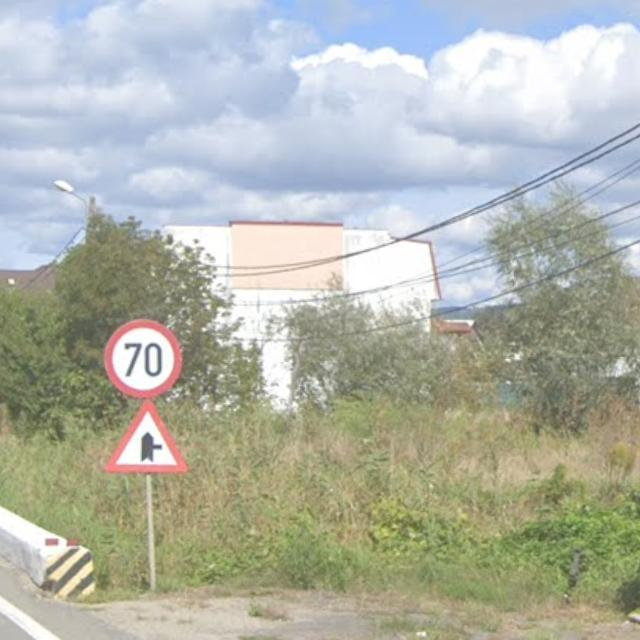forb_speed_over_70: (104, 318, 182, 397)
